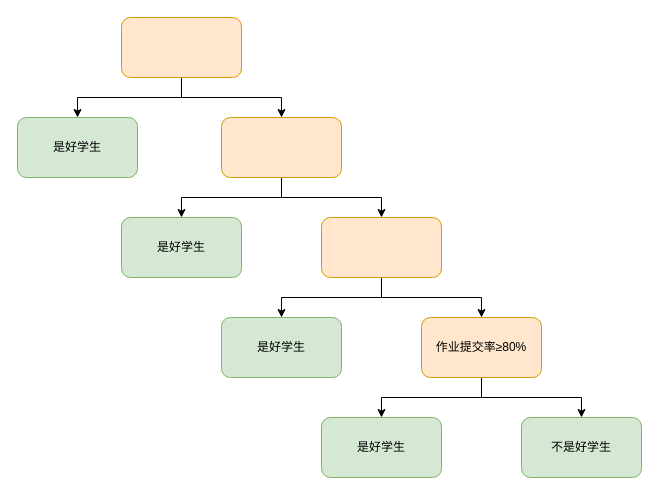
The diagram is 659 pixels wide and 495 high, and some of its shapes have lost their labels. Each missing label, with the centre of its shape:
"出勤率≥80%" belongs at [181,47].
"分数≥60" belongs at [381,247].
"回答问题的次数≥10" belongs at [281,147].
